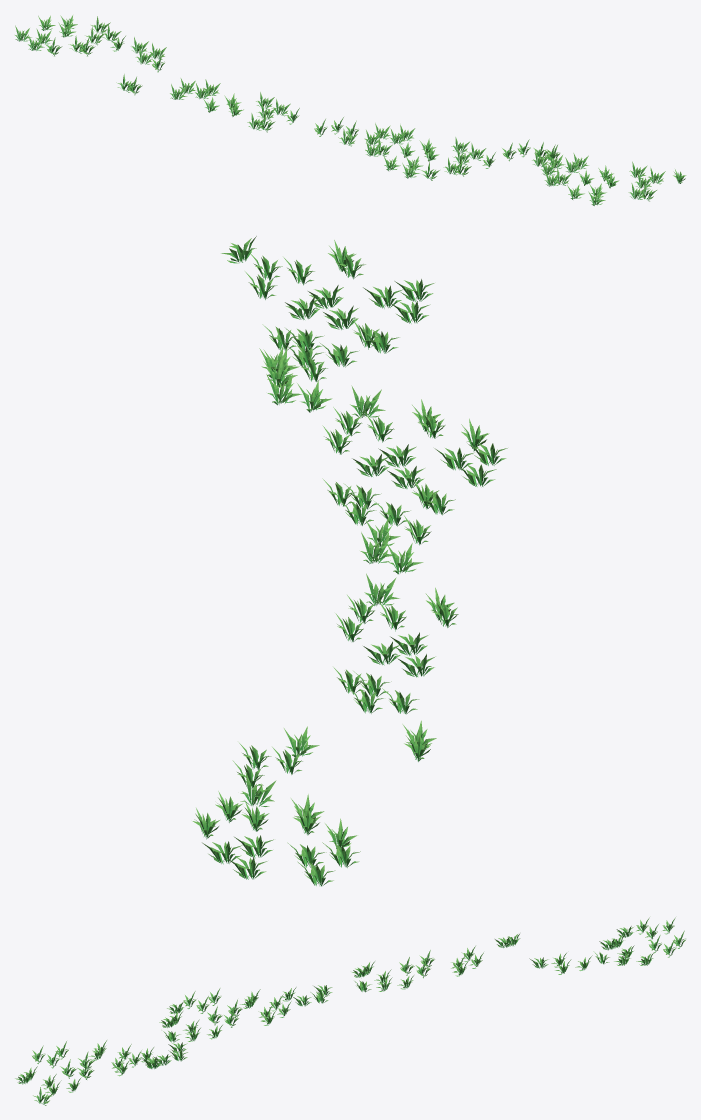
Rendered from Area_07_10.fbx.
The picture shows the model from 3 angles, top to bottom: view 1: azimuth 30°, elevation 25°; view 2: azimuth 150°, elevation 25°; view 3: azimuth 270°, elevation 25°; orthographic projection. The views are drawn at different scales.
Visible parts, largest first — view 1: Area_07_10; view 2: Area_07_10; view 3: Area_07_10.
Part boxes in pixels (x1,y1,x2,y2): Area_07_10: (15, 15, 686, 205); Area_07_10: (192, 236, 507, 886); Area_07_10: (15, 917, 685, 1105).
Bounding box in the file's own units: 2424 × 93.02 × 3834.
1 material, 1 textured.
